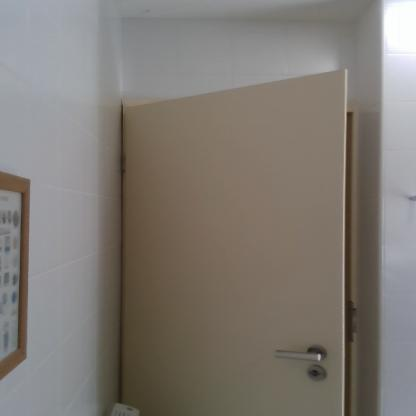door: (121, 106, 345, 416)
hinged: (119, 150, 130, 173)
lever: (271, 349, 326, 363)
